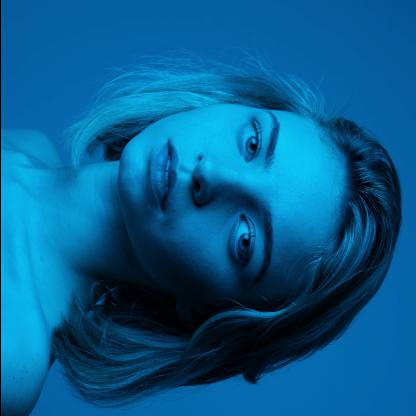Eye: (226, 210, 260, 266), (235, 112, 266, 162)
Mouth: (146, 134, 180, 212)
Nose: (184, 146, 248, 209)
